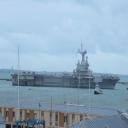Portanaves: (11, 39, 122, 91)
